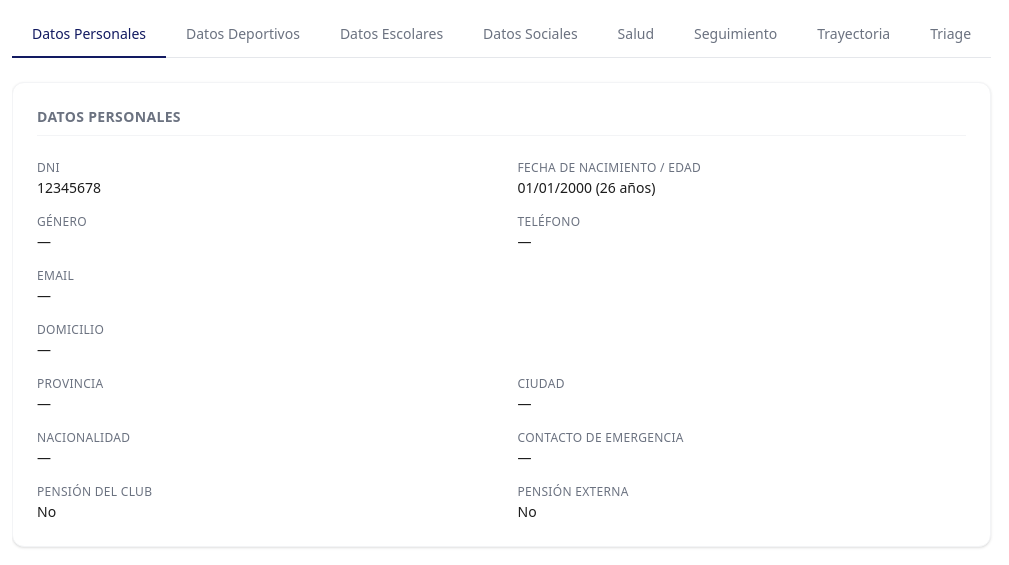
Test: DeportistaDetailTabs › al hacer click en Triage muestra el panel de triage
Step 1. Click the tab "Triage" → (951, 35), box [910,12,991,58]
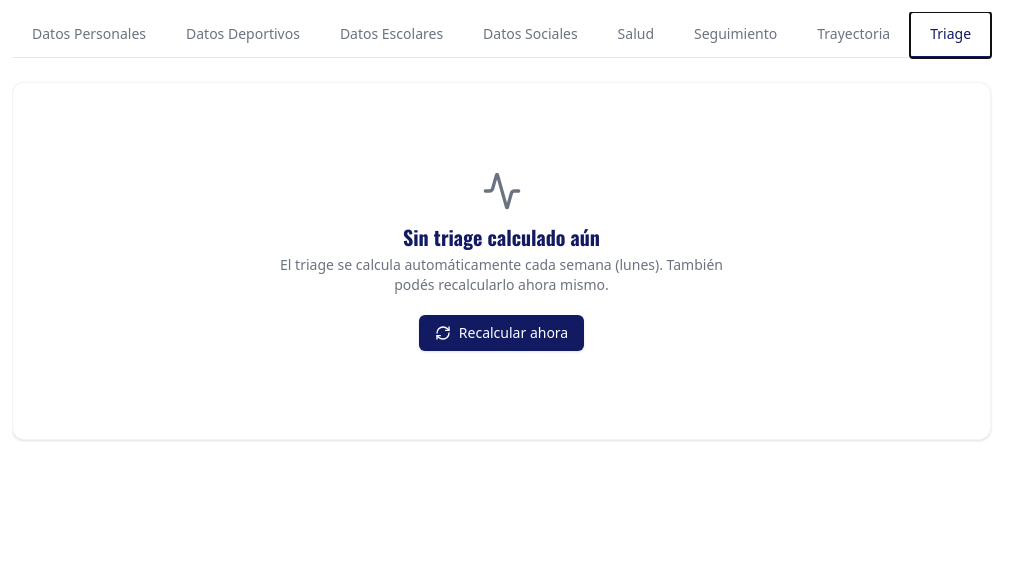
Expected: the heading "Sin triage calculado aún" is shown, [403,223,600,251]
